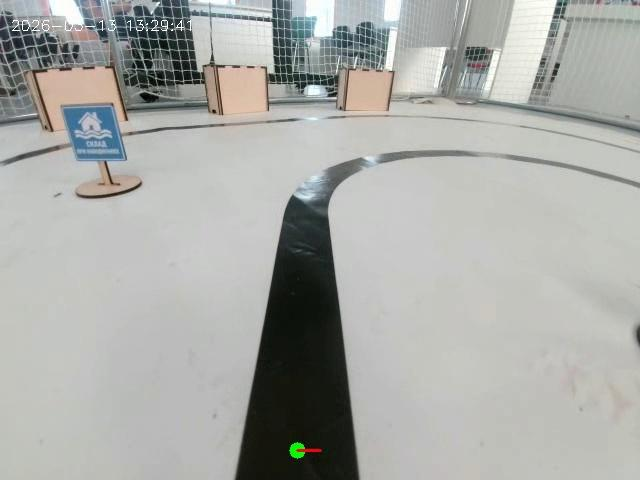flood: (53, 104, 136, 182)
